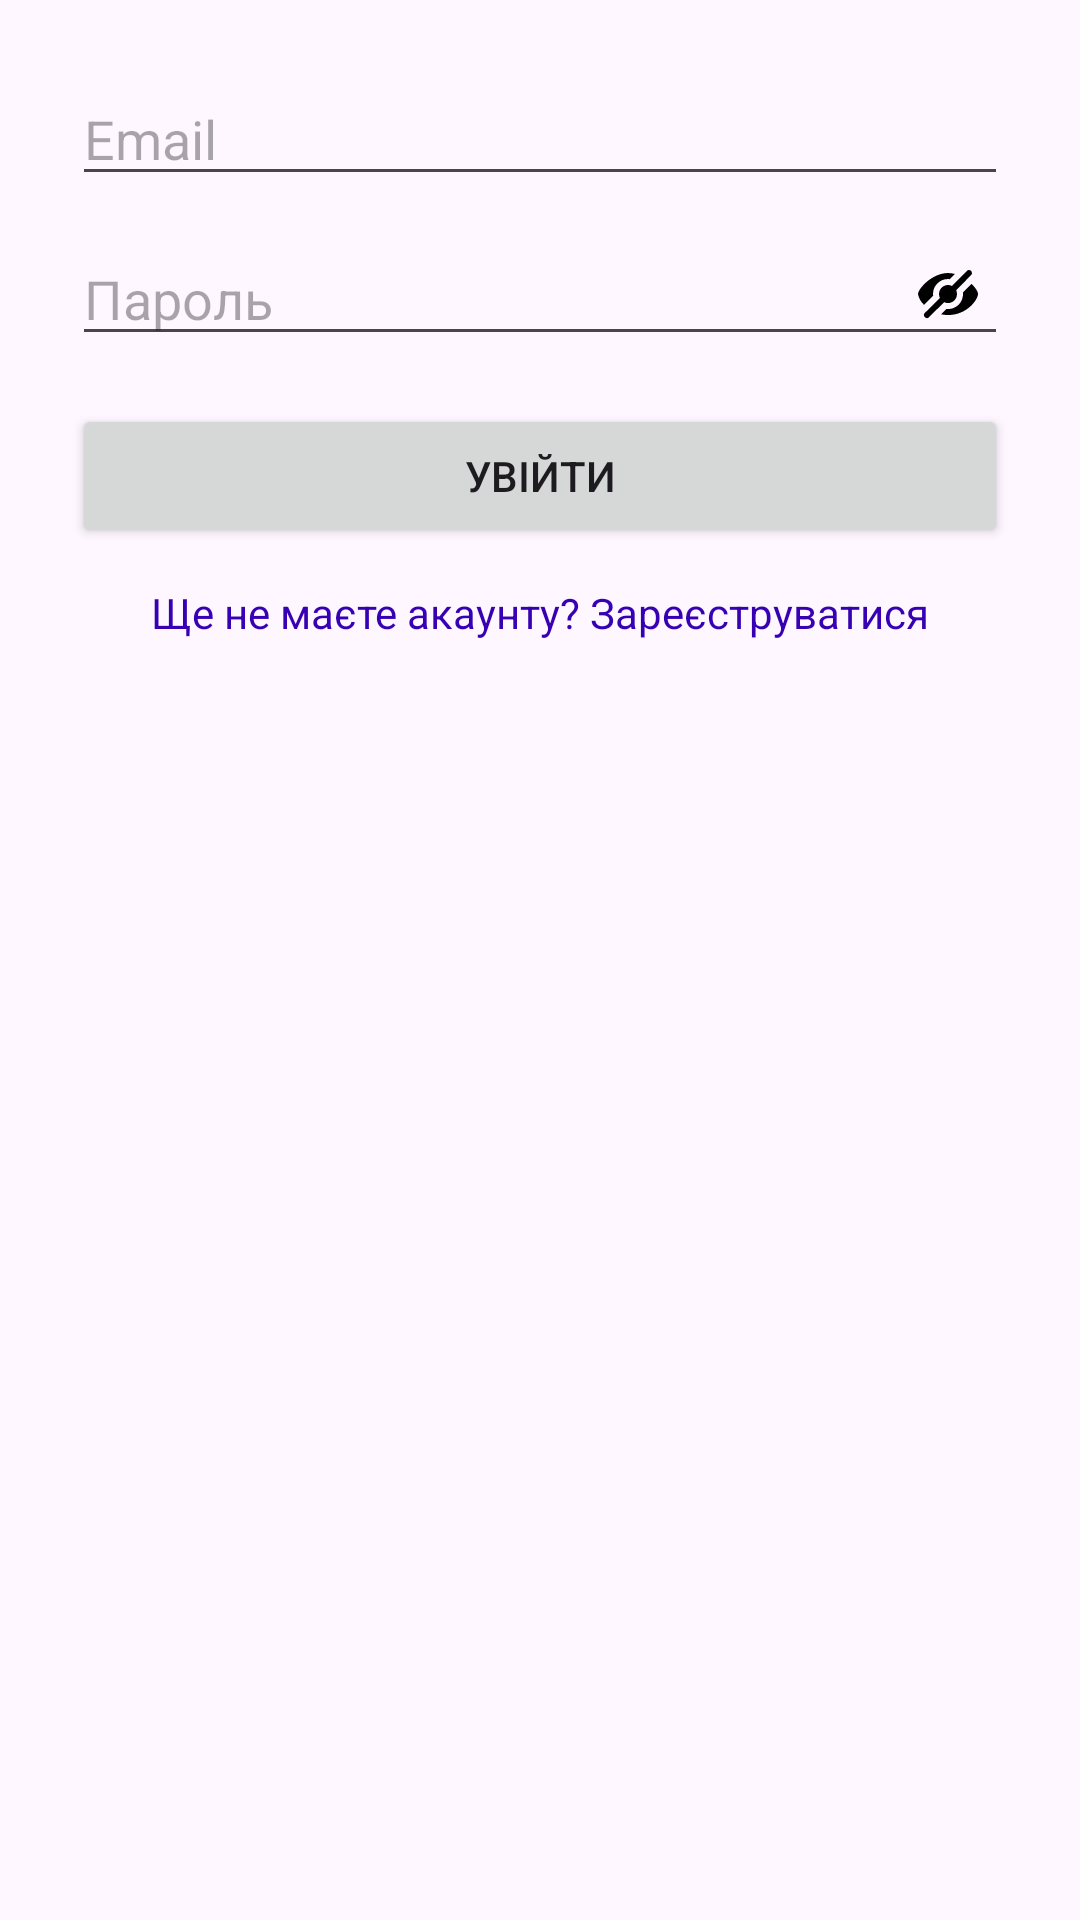

Screen size 1080*1920. Icon name, then its box in pixels as box(x1, y1, x2, y2):
visibility off: box(918, 270, 978, 318)
